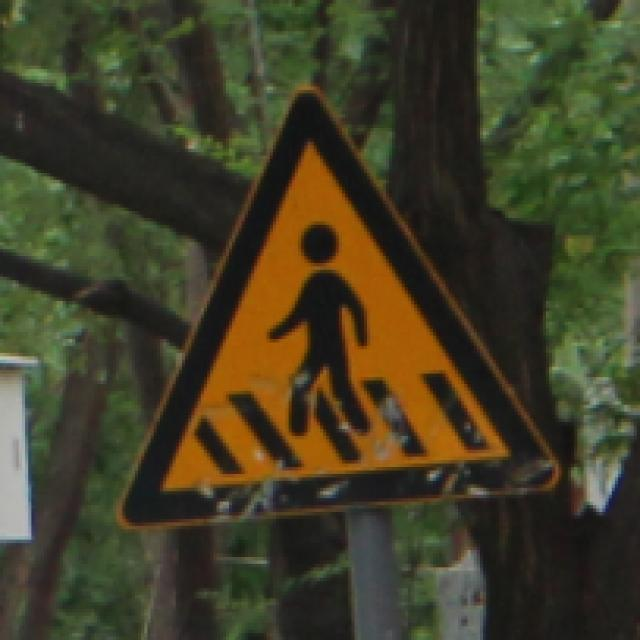Crossing: (123, 80, 585, 534)
